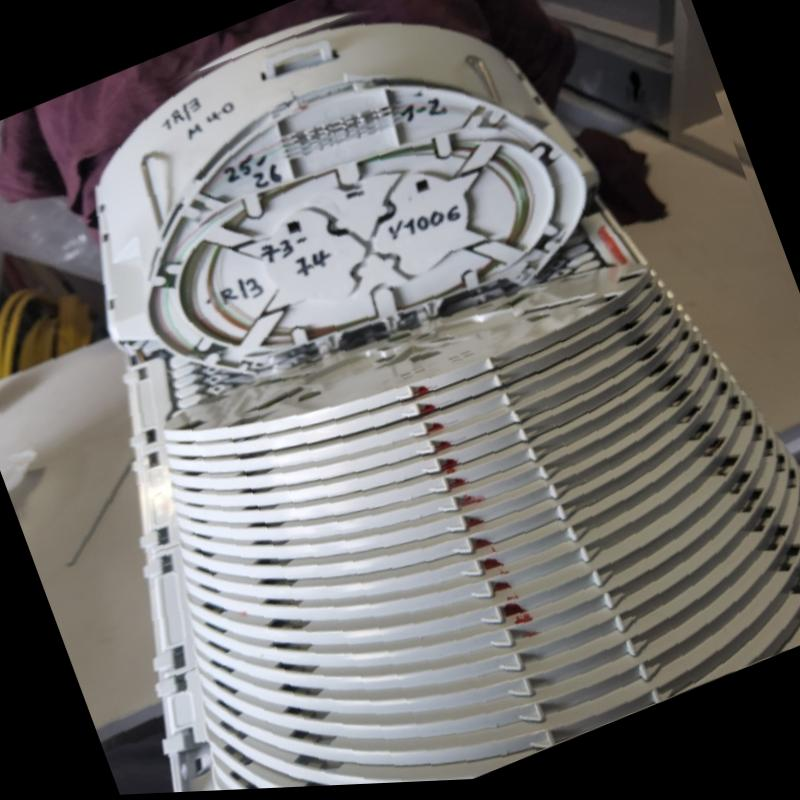NT-Muffen: (87, 19, 800, 795)
